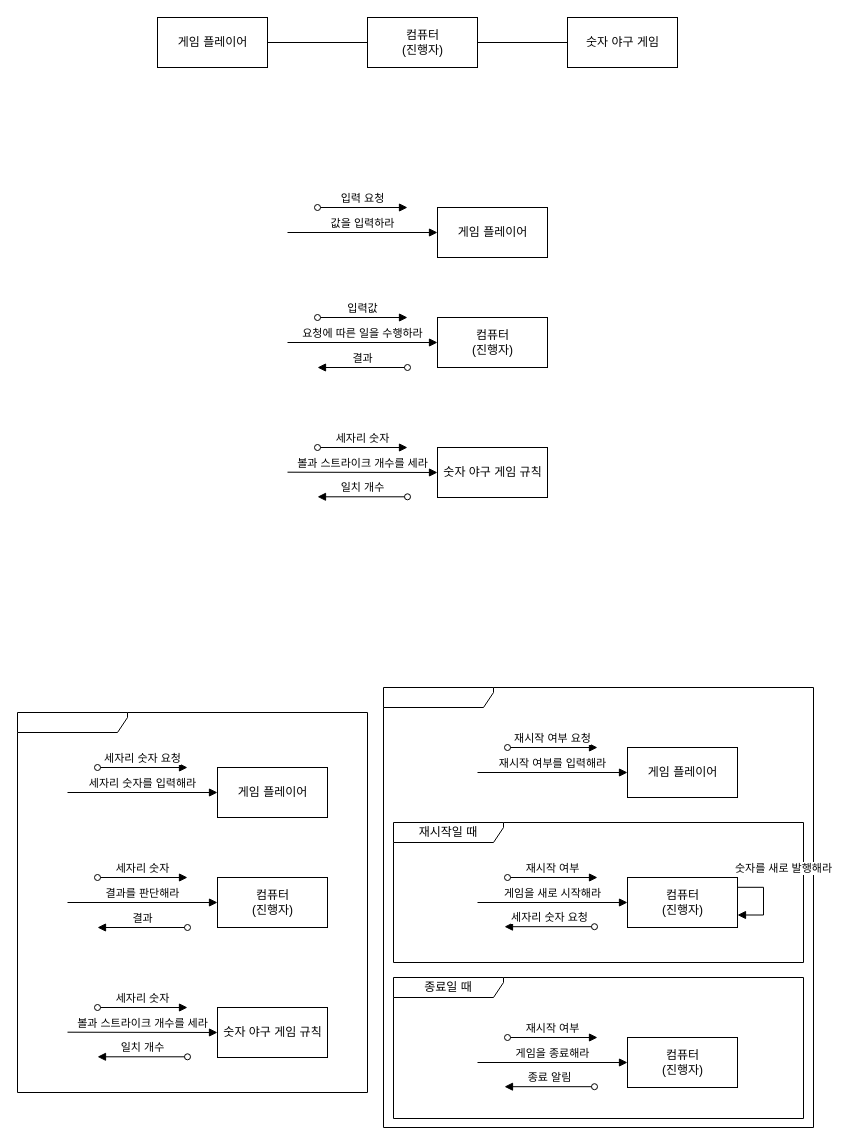
This 849x1145 diagram has some shape labels left out. Each missing label, with the box of its shape:
3스트라이크일 때: (382, 686, 814, 1128)
게임 진행중일 때: (16, 712, 368, 1092)
